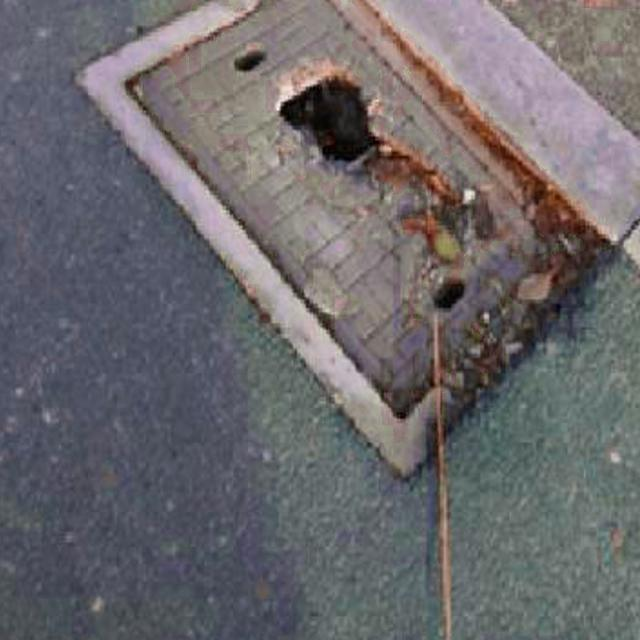broke: (42, 0, 622, 475)
